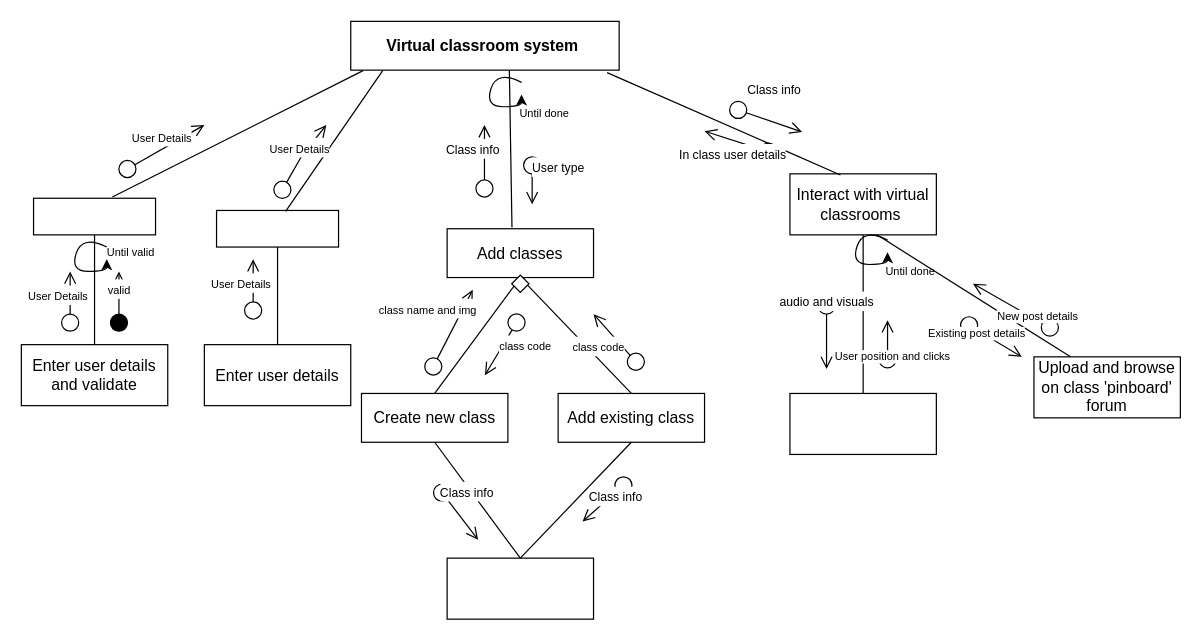
Image size: 1202x641. Some labels were removed from this diagram. Here are the shapes that lost their labels. From the top down, the centre of each, then its label:
At point (94, 216): "Login".
At point (277, 228): "Sign up".
At point (862, 423): "Interact with audio and visual features".
At point (520, 588): "Display classes".
